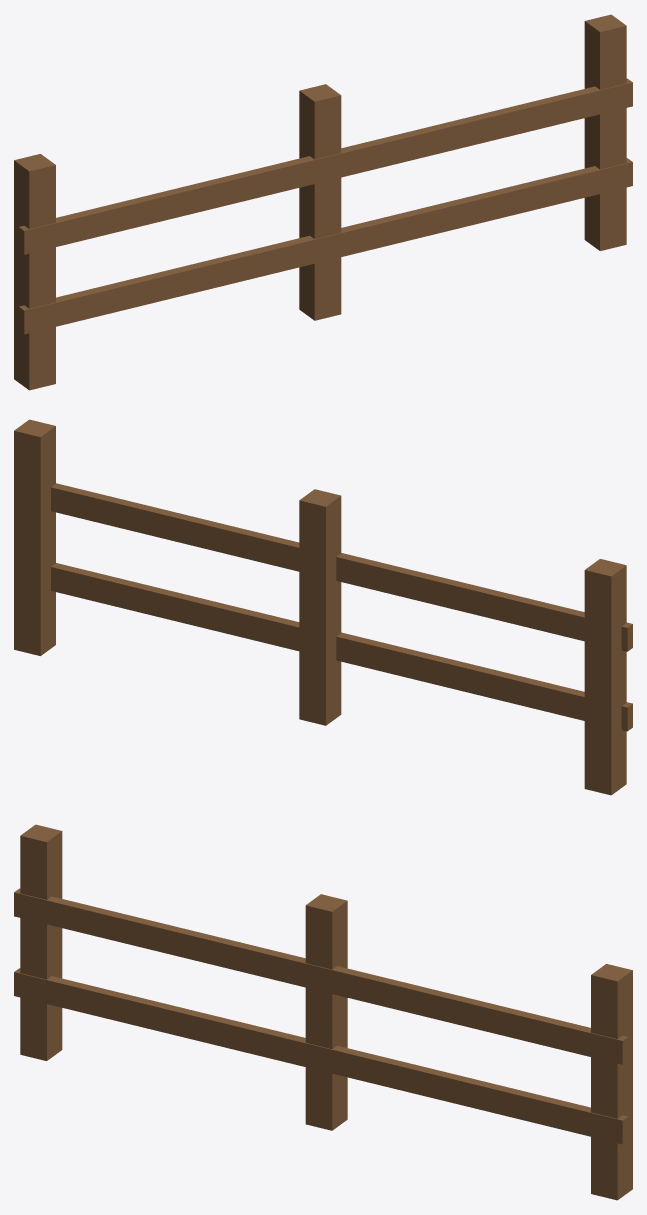
The model's file is fence-section.glb.
3 views of the same model, one above another, from view 1: azimuth 30°, elevation 25°; view 2: azimuth 150°, elevation 25°; view 3: azimuth 330°, elevation 25° (orthographic).
Parts seen in each view (by area): view 1: fence-section; view 2: fence-section; view 3: fence-section.
Boxes of the visible parts, x1,y1,x2,y2 form: fence-section: (14, 14, 632, 390); fence-section: (14, 419, 632, 795); fence-section: (14, 824, 632, 1200).
Bounding box in the file's own units: 3.2 × 1.1 × 0.145.
